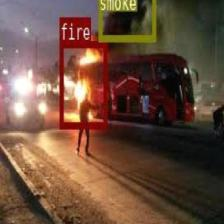fire: (60, 40, 106, 127)
smoke: (97, 0, 155, 40)
